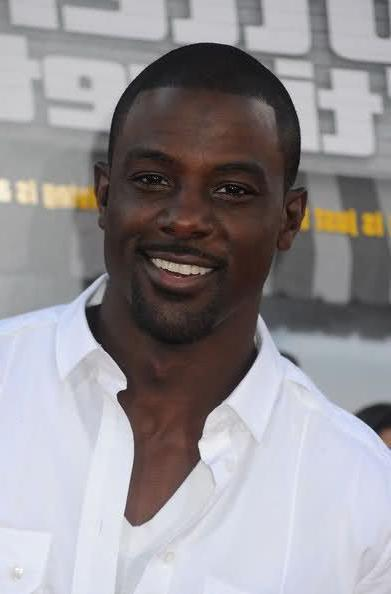Sober: (120, 94, 278, 327)
